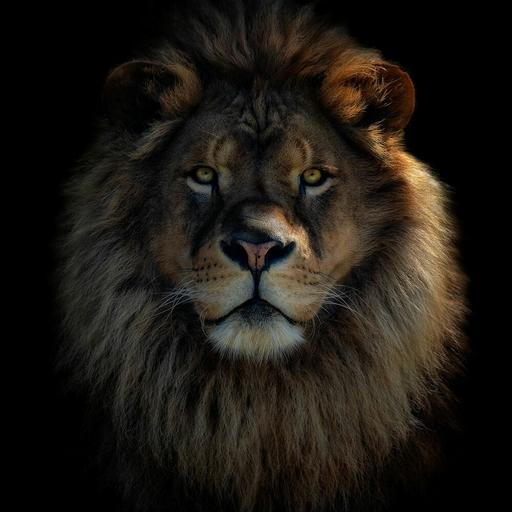Lion: (67, 0, 479, 512)
